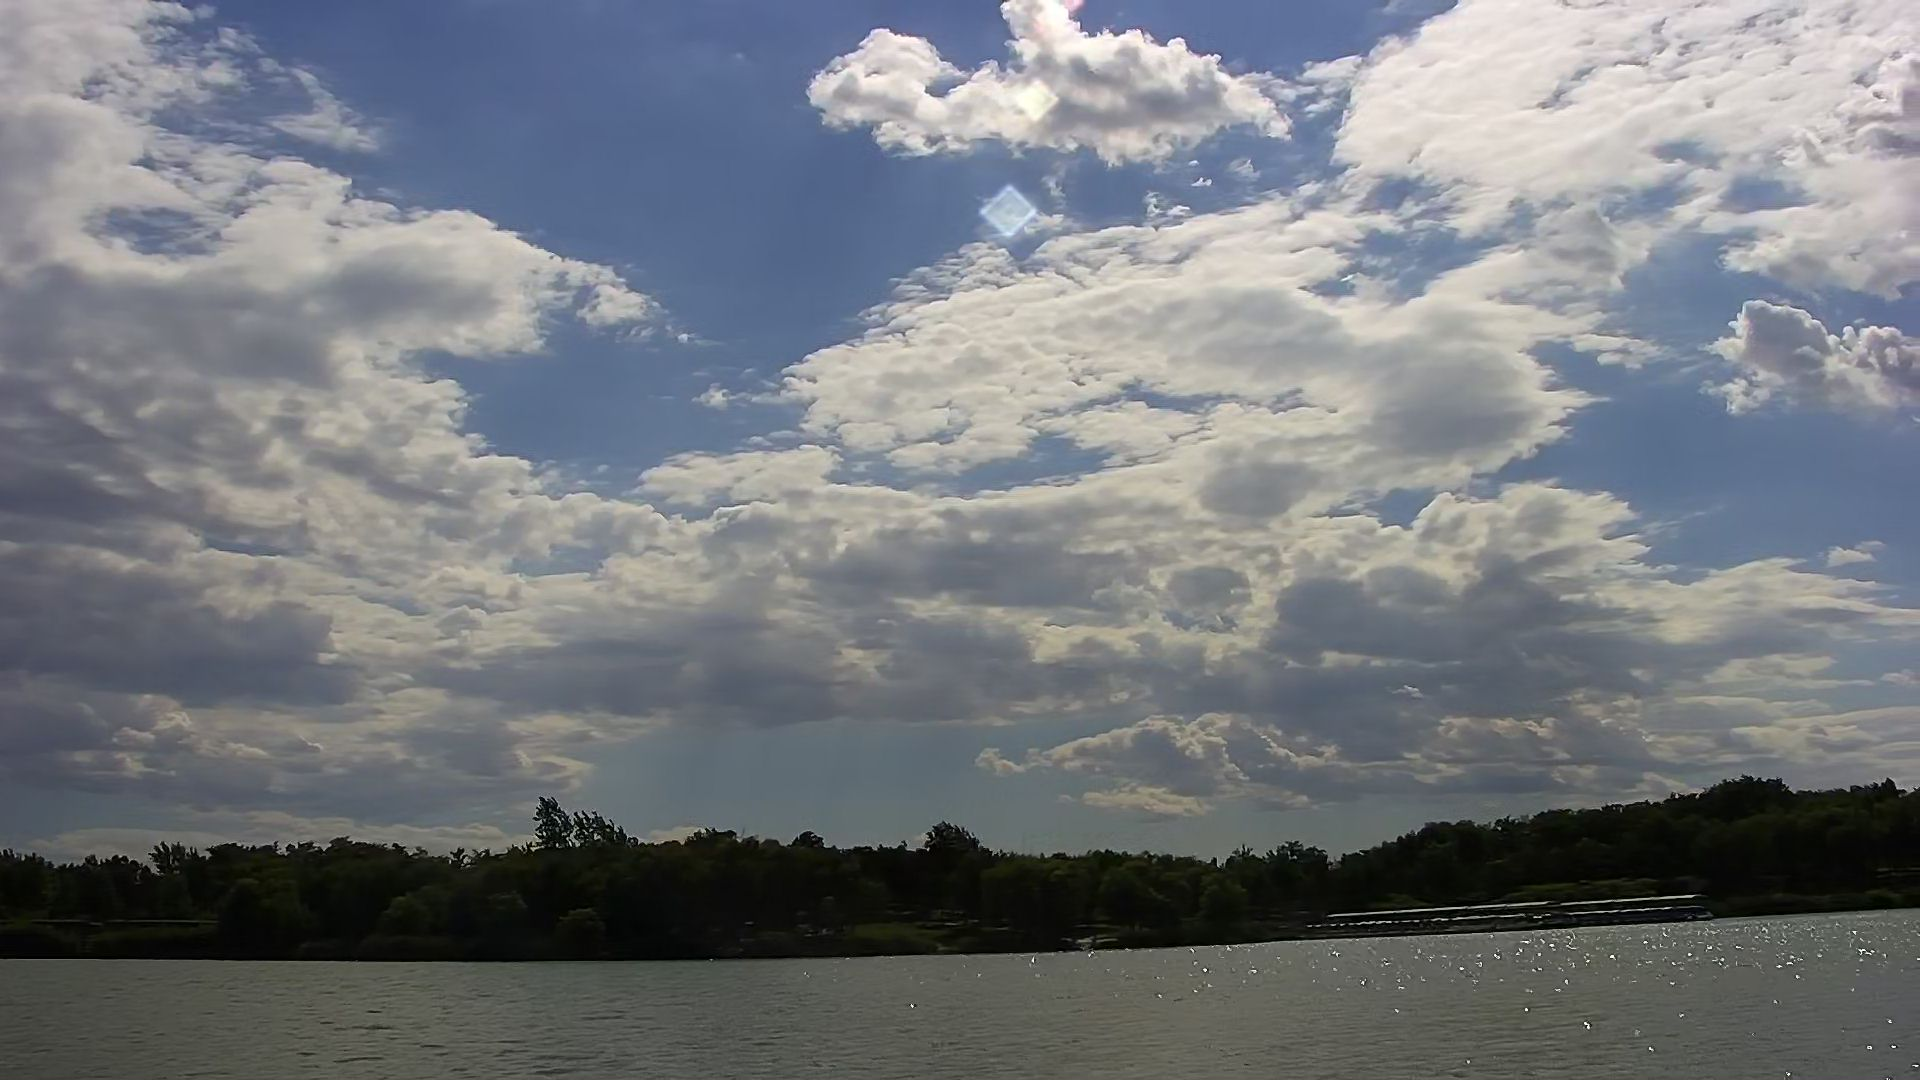harbor: (1338, 893, 1706, 935)
